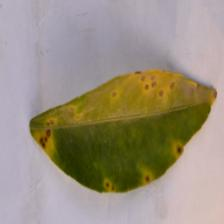canker: (79, 59, 186, 189)
